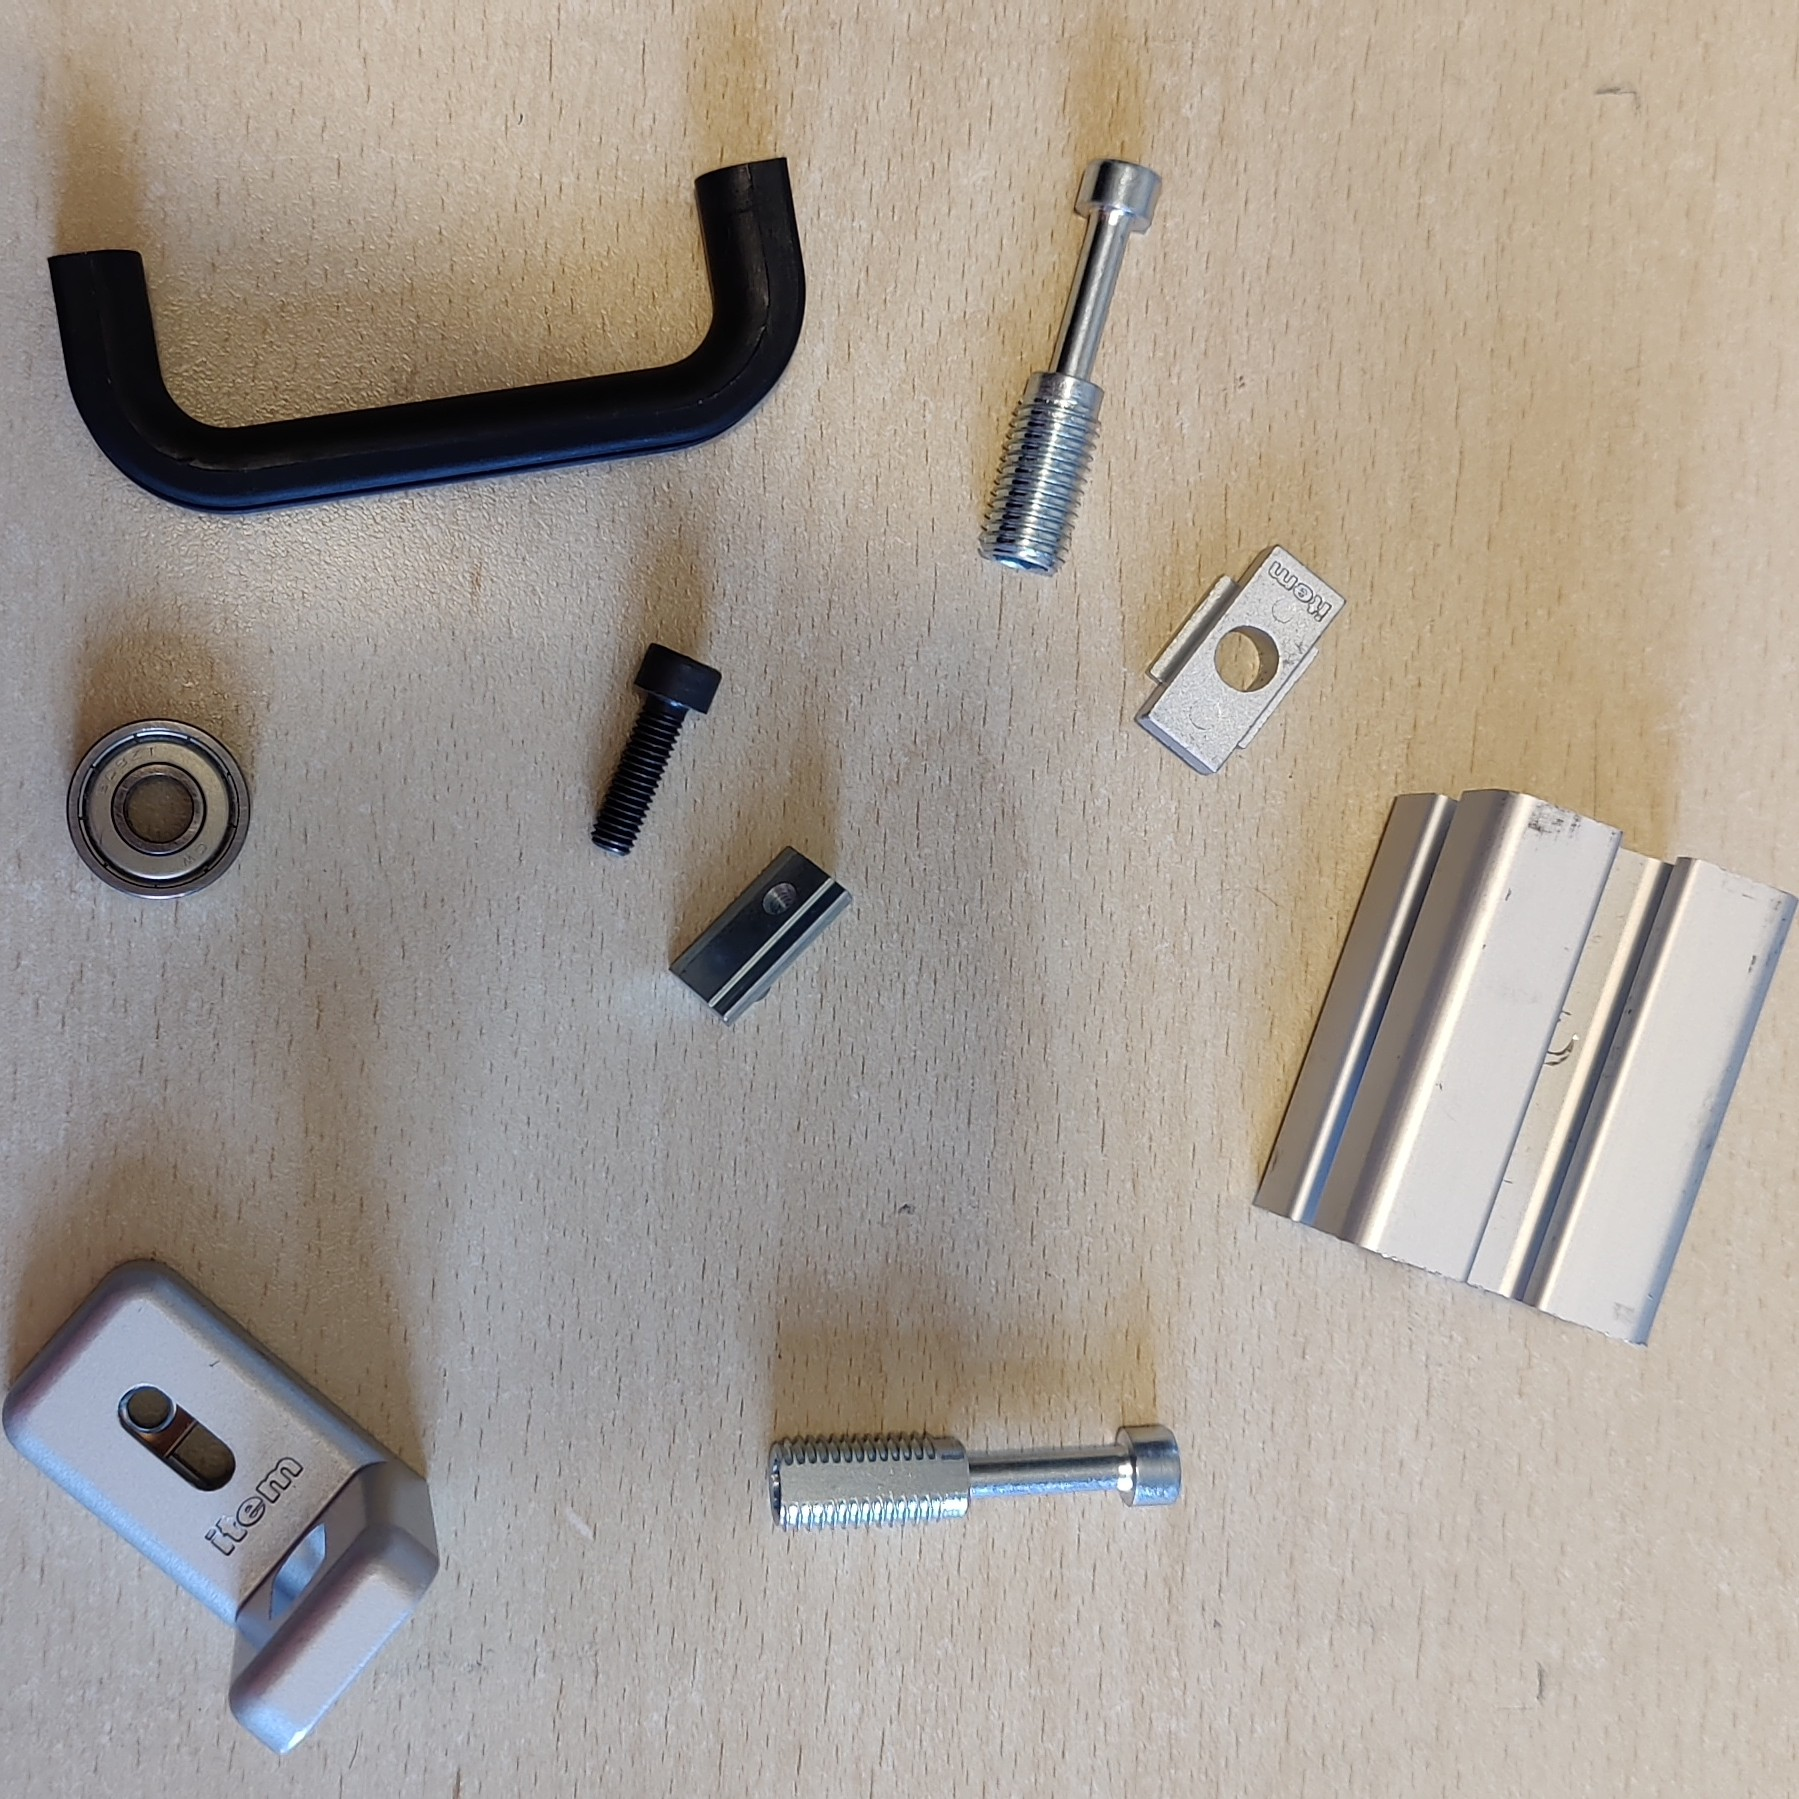Aluminium Extension: (1247, 787, 1799, 1348)
Ball Bearing: (64, 715, 255, 903)
Multiwinkel: (3, 1254, 442, 1758)
Pull Handle: (41, 153, 807, 517)
Shoulder Socket Head Cap Screw: (974, 153, 1166, 578), (766, 1422, 1185, 1534)
Socket Head Cap Screw: (586, 638, 723, 857)
T Nut Square: (1132, 542, 1349, 778)
T Spring Nut: (669, 840, 853, 1031)
